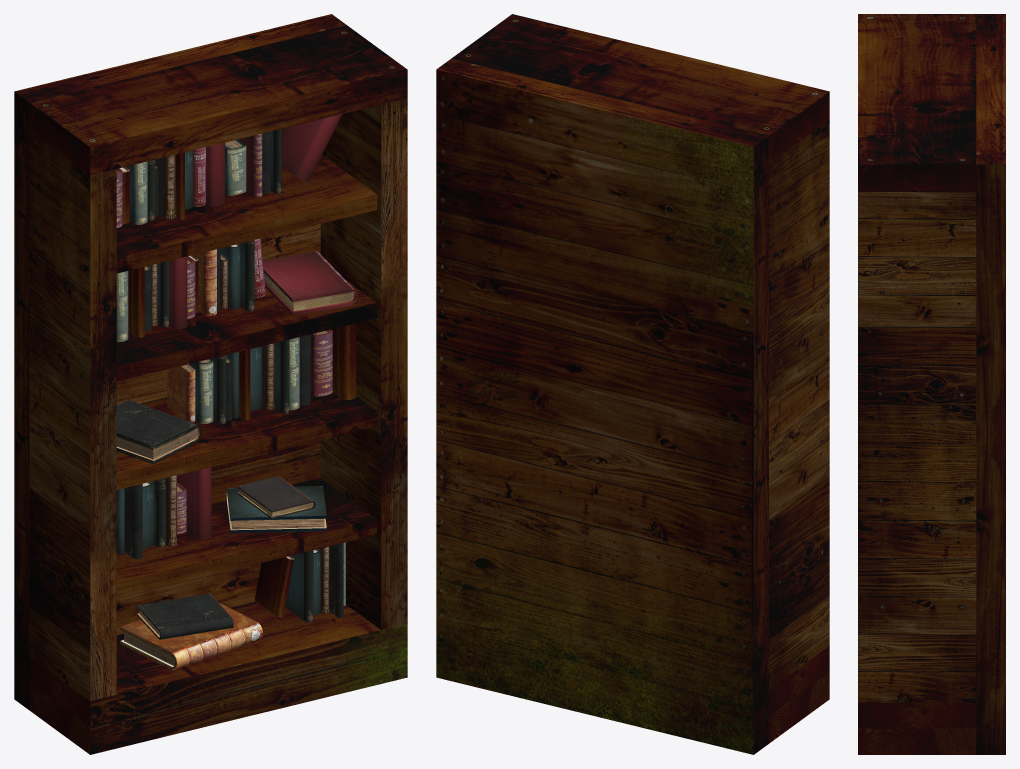
Rendered from obj_bookcase_b43c45.glb.
3 views of the same model, side by side, from view 1: azimuth 30°, elevation 25°; view 2: azimuth 150°, elevation 25°; view 3: azimuth 270°, elevation 25° (orthographic). The views are drawn at different scales.
Visible parts, largest first — view 1: obj_bookcase_b43c45; view 2: obj_bookcase_b43c45; view 3: obj_bookcase_b43c45.
Part boxes in pixels (x1,y1,x2,y2): obj_bookcase_b43c45: (14, 14, 407, 754); obj_bookcase_b43c45: (436, 14, 829, 754); obj_bookcase_b43c45: (858, 14, 1005, 754).
Bounding box in the file's own units: 1.04 × 1.9 × 0.4306.
23 materials, 23 textured.
